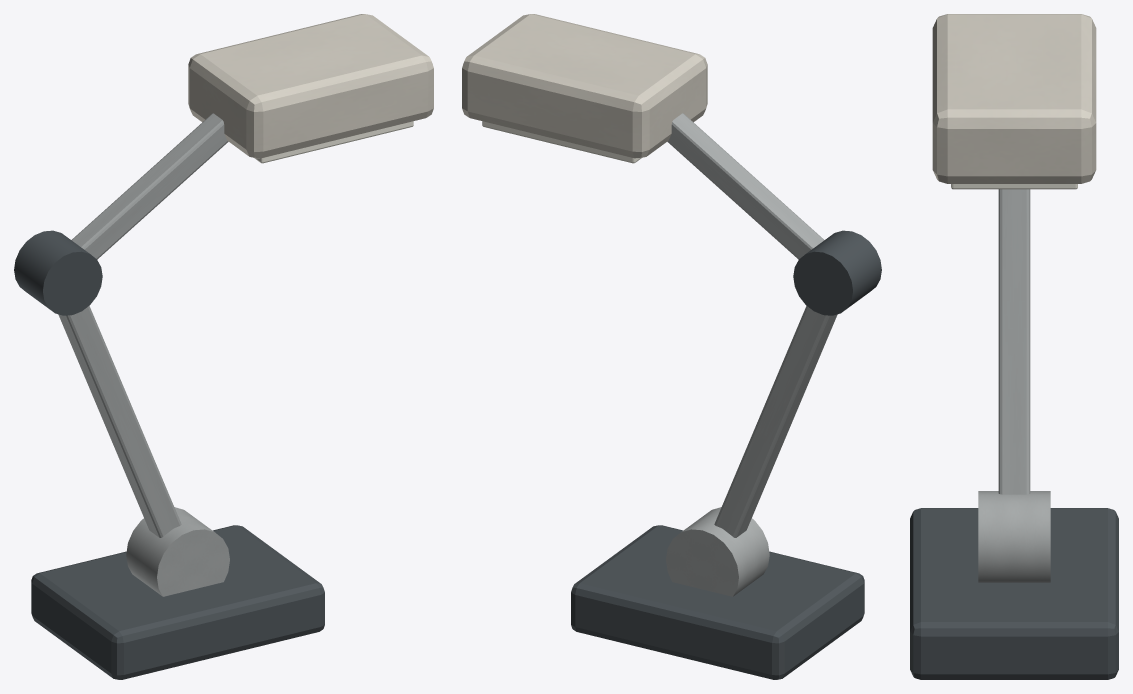
File: adjustable_desk_lamp.glb
3 renders of one model, left to right at view 1: azimuth 30°, elevation 25°; view 2: azimuth 150°, elevation 25°; view 3: azimuth 270°, elevation 25°, orthographic. The views are drawn at different scales.
Parts seen in each view (by area): view 1: Base, Shade, LowerArm, LowerJoint, UpperArm, Elbow, Diffuser; view 2: Base, Shade, LowerArm, LowerJoint, UpperArm, Elbow, Diffuser; view 3: Base, Shade, LowerArm, LowerJoint, Diffuser.
Part boxes in pixels (x1=…): Base: x1=31, y1=525, x2=324, y2=679; Shade: x1=188, y1=14, x2=433, y2=158; LowerArm: x1=58, y1=305, x2=181, y2=537; LowerJoint: x1=126, y1=507, x2=229, y2=596; UpperArm: x1=71, y1=113, x2=228, y2=259; Elbow: x1=14, y1=230, x2=102, y2=315; Diffuser: x1=254, y1=121, x2=413, y2=163; Base: x1=571, y1=525, x2=864, y2=679; Shade: x1=462, y1=14, x2=707, y2=158; LowerArm: x1=714, y1=305, x2=837, y2=537; LowerJoint: x1=666, y1=507, x2=769, y2=596; UpperArm: x1=667, y1=113, x2=824, y2=259; Elbow: x1=793, y1=230, x2=881, y2=315; Diffuser: x1=482, y1=121, x2=641, y2=163; Base: x1=910, y1=508, x2=1118, y2=679; Shade: x1=932, y1=14, x2=1096, y2=183; LowerArm: x1=998, y1=189, x2=1030, y2=494; LowerJoint: x1=978, y1=491, x2=1050, y2=582; Diffuser: x1=951, y1=184, x2=1077, y2=189.
Bounding box in the file's own units: 0.565 × 0.775 × 0.23.
Materials: 4 (2 with a texture image).
